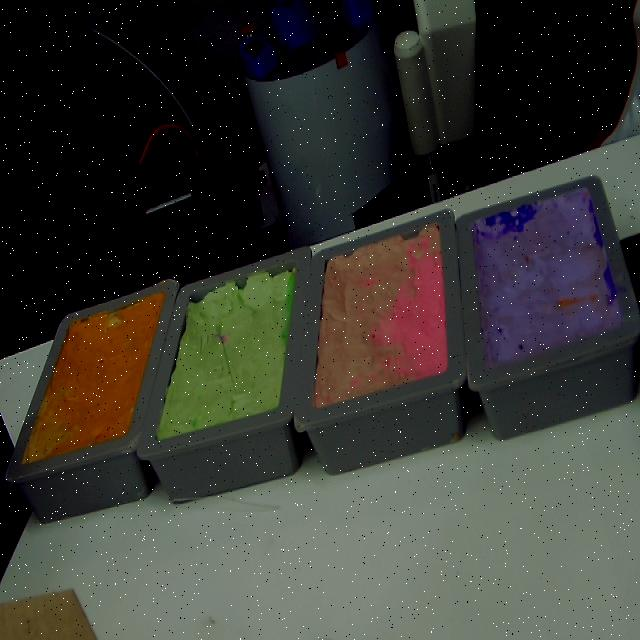block: (453, 173, 638, 439), (295, 206, 470, 473), (133, 250, 313, 500), (5, 279, 181, 523)
